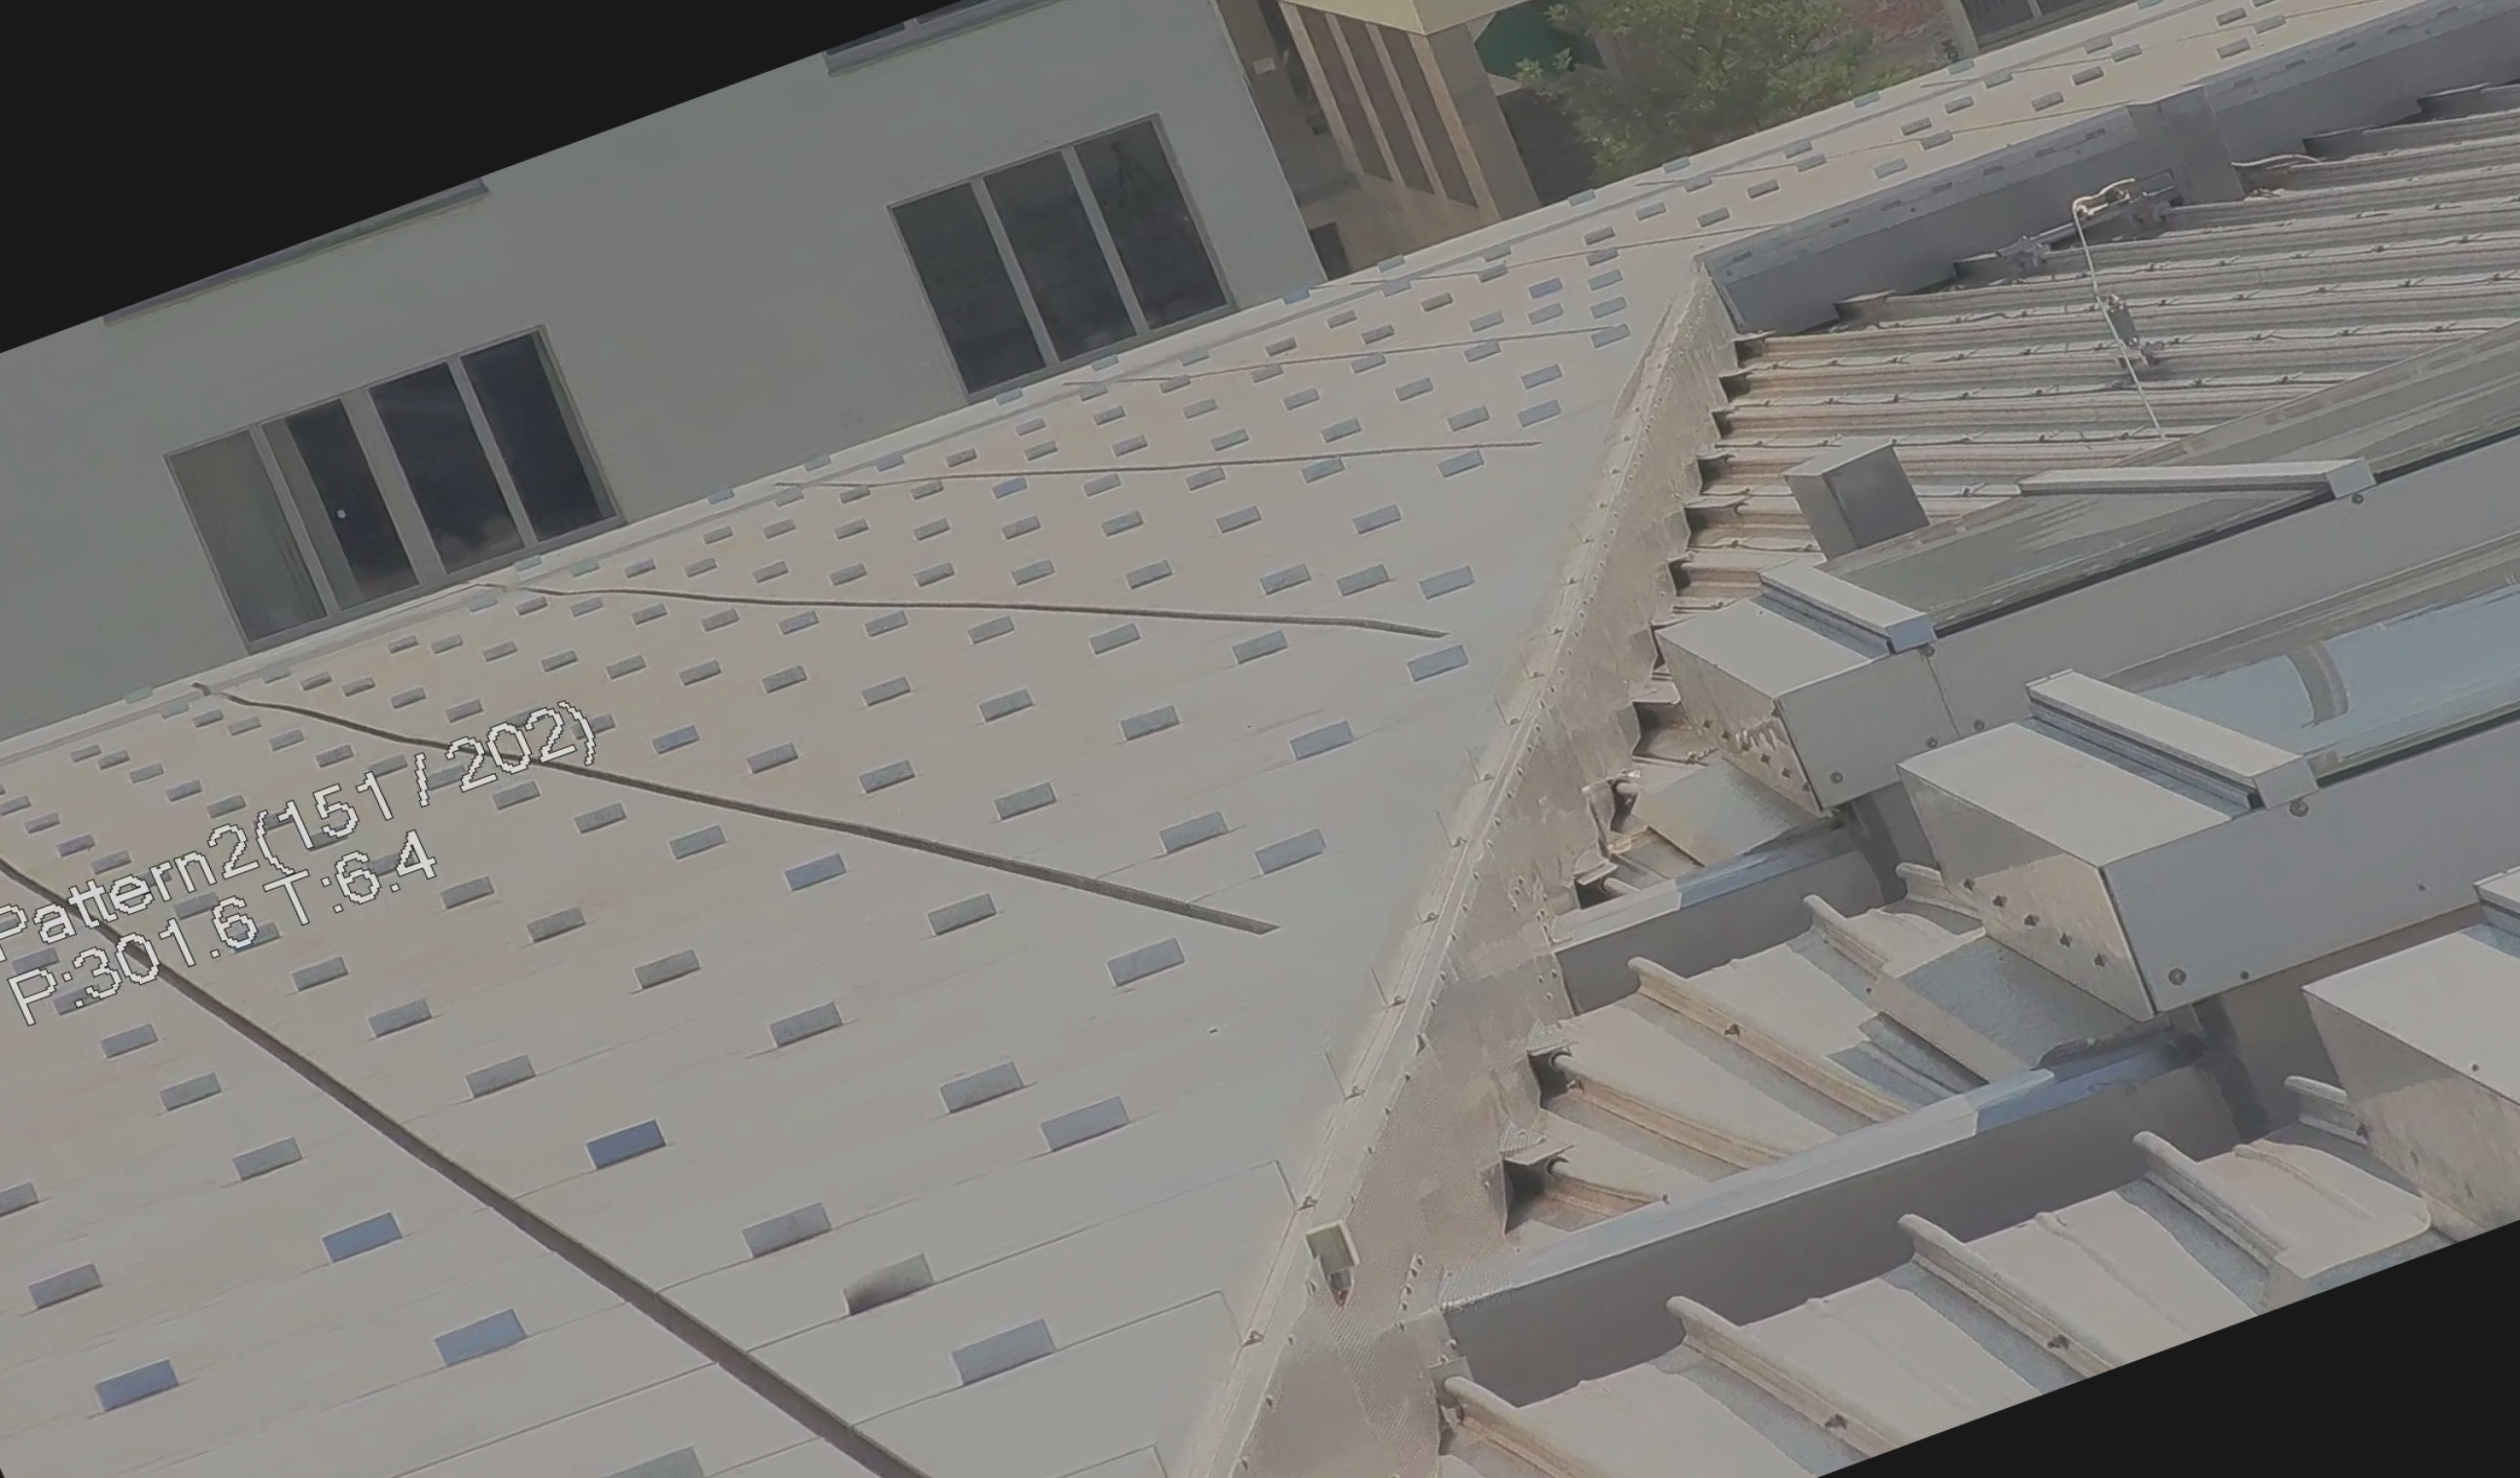Other: (1461, 1116, 1630, 1262)
